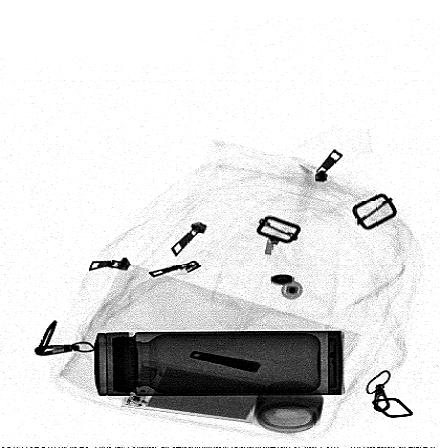Powerbank: (118, 360, 272, 425)
